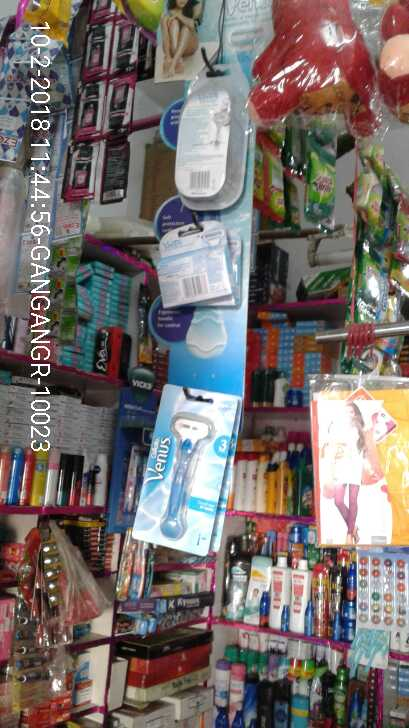venus: (139, 383, 230, 556)
